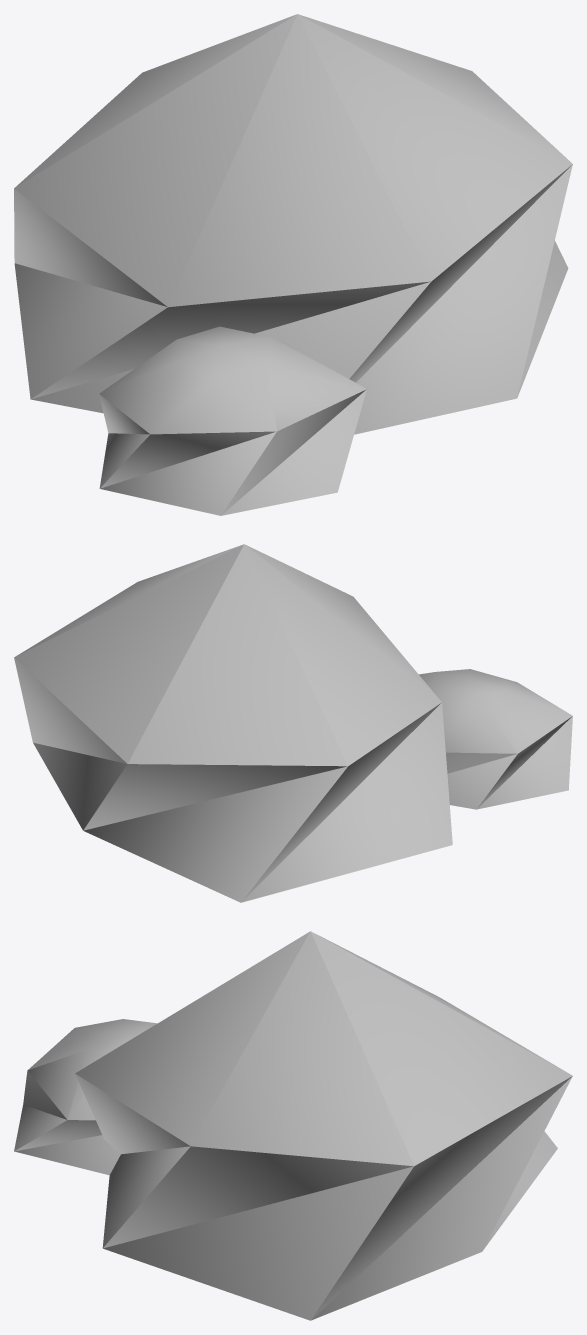
Rendered from item_rm_obsidian_c.obj.
The picture shows the model from 3 angles, top to bottom: view 1: azimuth 30°, elevation 25°; view 2: azimuth 150°, elevation 25°; view 3: azimuth 270°, elevation 25°; orthographic projection. The views are drawn at different scales.
Parts seen in each view (by area): view 1: source_component_000, source_component_001; view 2: source_component_000, source_component_001; view 3: source_component_000, source_component_001.
Part boxes in pixels (<box>): source_component_000: <box>14,14,572,434</box>; source_component_001: <box>99,326,366,515</box>; source_component_000: <box>14,544,452,902</box>; source_component_001: <box>419,669,572,809</box>; source_component_000: <box>75,931,572,1320</box>; source_component_001: <box>14,1019,157,1175</box>.
Size of the model in its own units: 0.853 by 0.452 by 0.8302.
